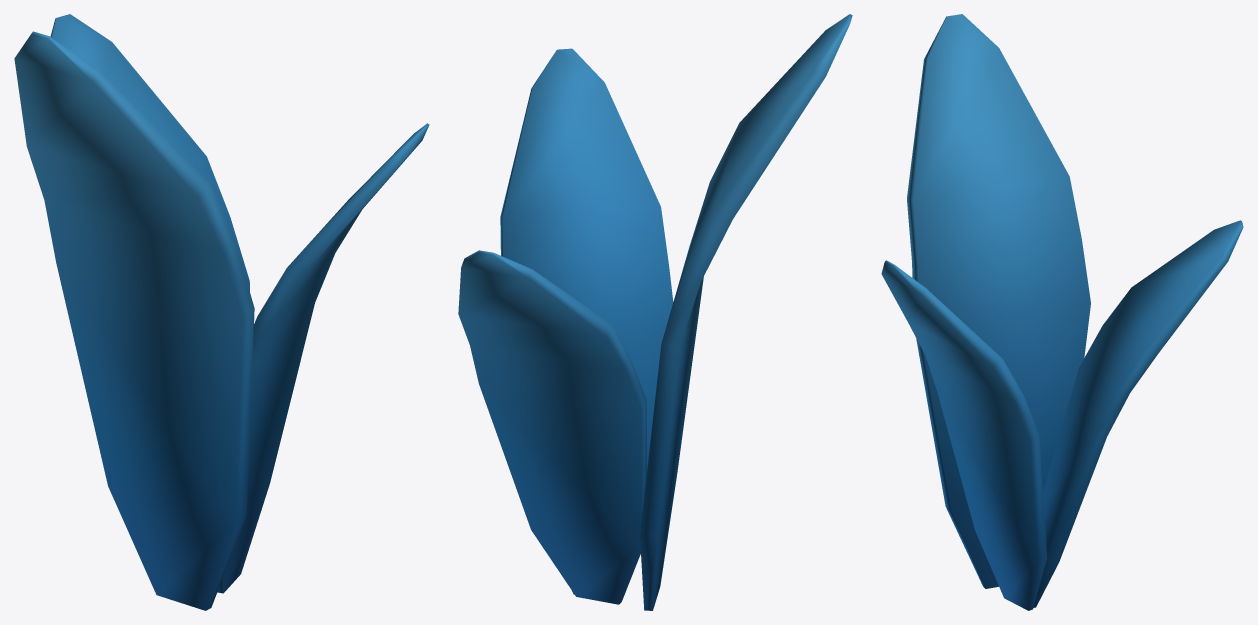
The model's file is Grass_I.fbx.
The picture shows the model from 3 angles, left to right: view 1: azimuth 30°, elevation 25°; view 2: azimuth 150°, elevation 25°; view 3: azimuth 270°, elevation 25°; orthographic projection. The views are drawn at different scales.
Visible parts, largest first — view 1: Grass_I; view 2: Grass_I; view 3: Grass_I.
Part boxes in pixels (x1,y1,x2,y2): Grass_I: [14, 14, 429, 610]; Grass_I: [458, 14, 852, 610]; Grass_I: [881, 14, 1243, 610].
Bounding box in the file's own units: 45.14 × 75.06 × 49.16.
